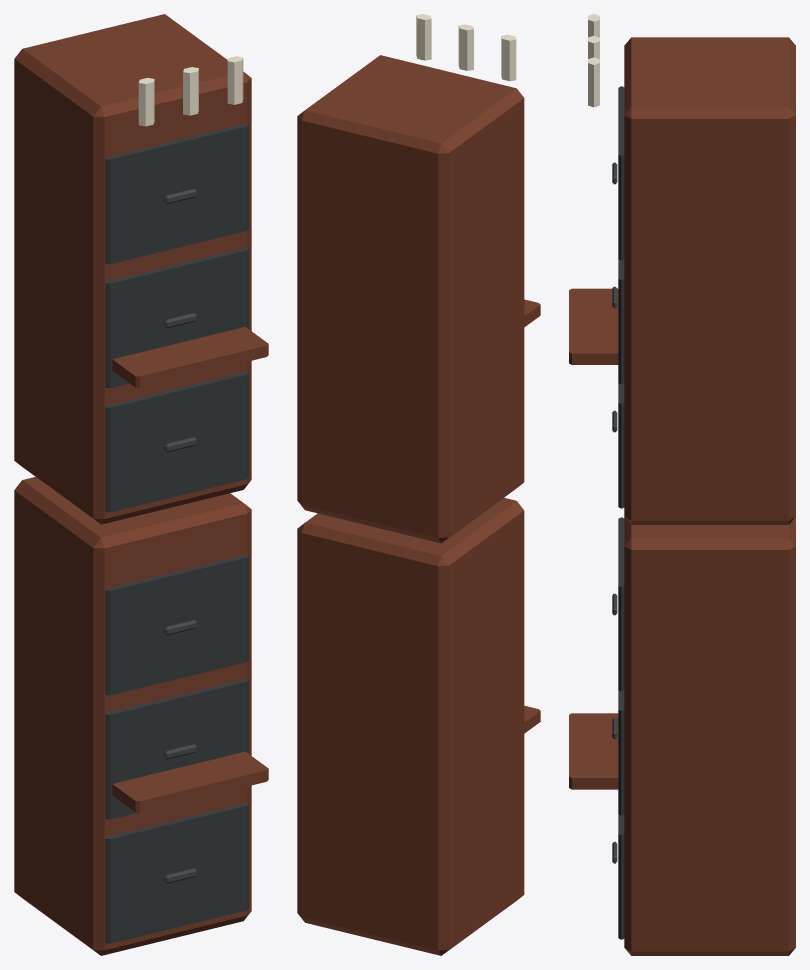
File: cabinet_rusty_stack.glb
3 views of the same model, side by side, from view 1: azimuth 30°, elevation 25°; view 2: azimuth 150°, elevation 25°; view 3: azimuth 270°, elevation 25° (orthographic). The views are drawn at different scales.
Visible parts, largest first — view 1: Archivero.001, Archivero, Cajón.002, Cajón, Cajón.003, Cajón.005, Cajón.004, Cajón.001, Cajón abierto, Cajón abierto.001, Veladora, Veladora.002 (+1 smaller); view 2: Archivero.001, Archivero, Veladora.002, Veladora, Veladora.001; view 3: Archivero.001, Archivero, Cajón abierto, Cajón abierto.001, Cajón.002, Cajón.005, Cajón.001, Cajón.004, Cajón, Cajón.003, Veladora.002.
Part boxes in pixels (bbox=[...]): Archivero.001: bbox=[14, 14, 251, 524]; Archivero: bbox=[14, 477, 251, 955]; Cajón.002: bbox=[105, 555, 248, 695]; Cajón: bbox=[105, 803, 248, 943]; Cajón.003: bbox=[105, 372, 248, 512]; Cajón.005: bbox=[105, 124, 248, 263]; Cajón.004: bbox=[105, 248, 248, 388]; Cajón.001: bbox=[105, 679, 248, 819]; Cajón abierto: bbox=[112, 751, 268, 812]; Cajón abierto.001: bbox=[112, 327, 268, 387]; Veladora: bbox=[138, 77, 154, 126]; Veladora.002: bbox=[227, 56, 243, 104]; Archivero.001: bbox=[297, 55, 524, 543]; Archivero: bbox=[297, 497, 524, 955]; Veladora.002: bbox=[416, 14, 431, 60]; Veladora: bbox=[501, 34, 516, 81]; Veladora.001: bbox=[458, 24, 473, 70]; Archivero.001: bbox=[624, 37, 795, 524]; Archivero: bbox=[624, 517, 795, 955]; Cajón abierto: bbox=[569, 713, 618, 789]; Cajón abierto.001: bbox=[569, 288, 618, 364]; Cajón.002: bbox=[618, 517, 624, 691]; Cajón.005: bbox=[618, 86, 624, 260]; Cajón.001: bbox=[618, 690, 624, 815]; Cajón.004: bbox=[618, 259, 624, 384]; Cajón: bbox=[618, 814, 624, 939]; Cajón.003: bbox=[618, 383, 624, 508]; Veladora.002: bbox=[588, 57, 599, 107].
Size of the model in its own units: 0.5 by 2.66 by 0.62.
